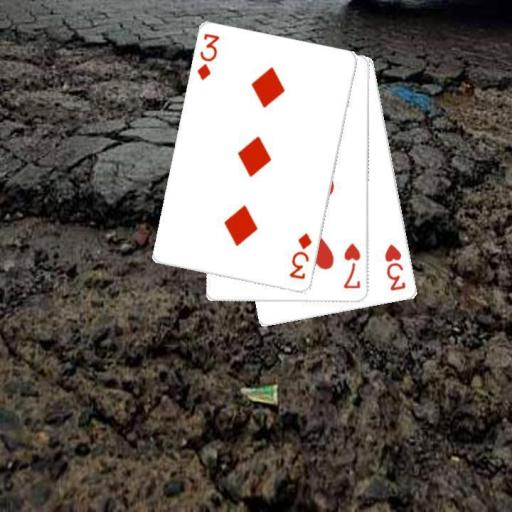card-corner: (286, 230, 313, 282), (194, 30, 221, 82), (382, 241, 407, 293), (341, 240, 362, 291)
